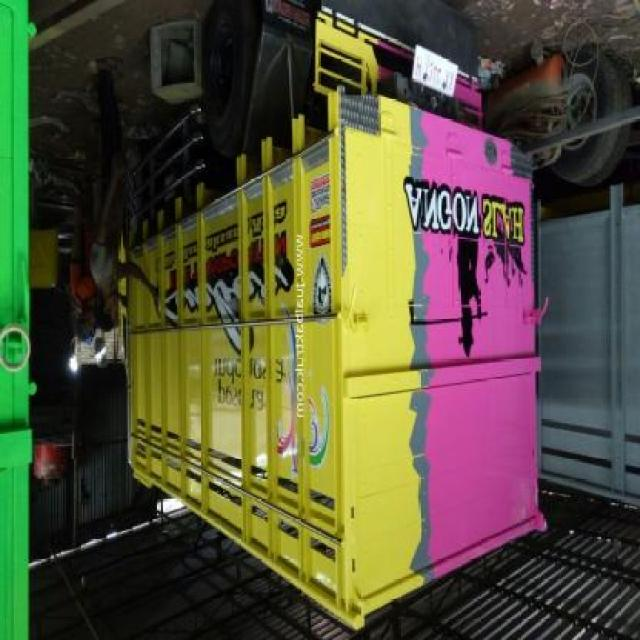truck: (116, 2, 549, 623)
